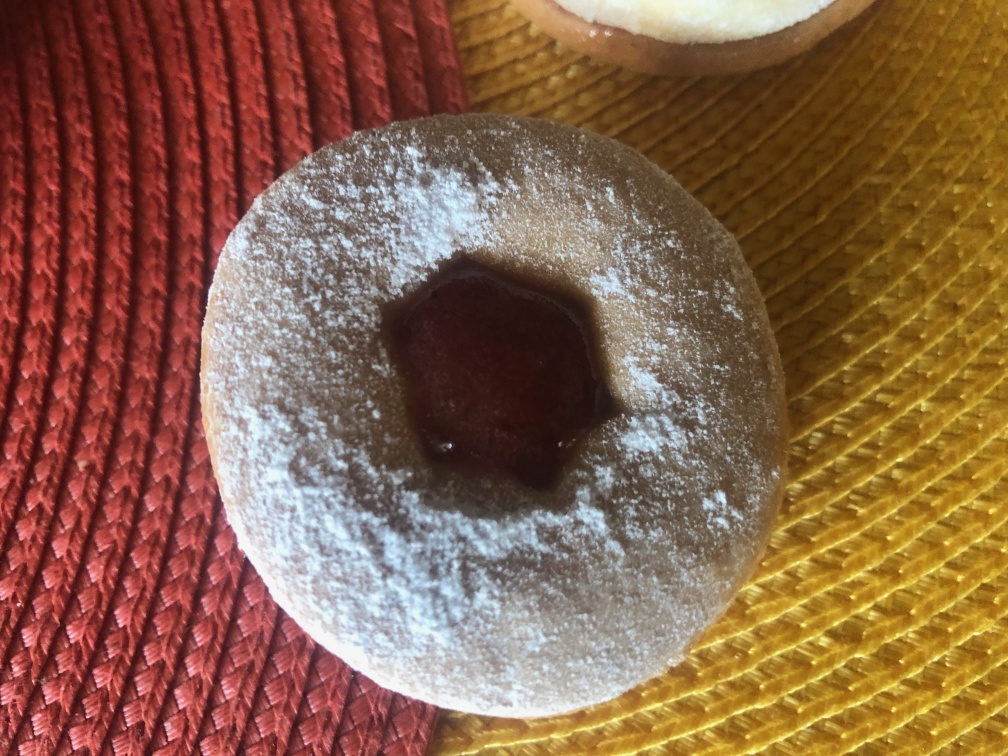christmas shortbread with jam: (200, 111, 794, 708)
